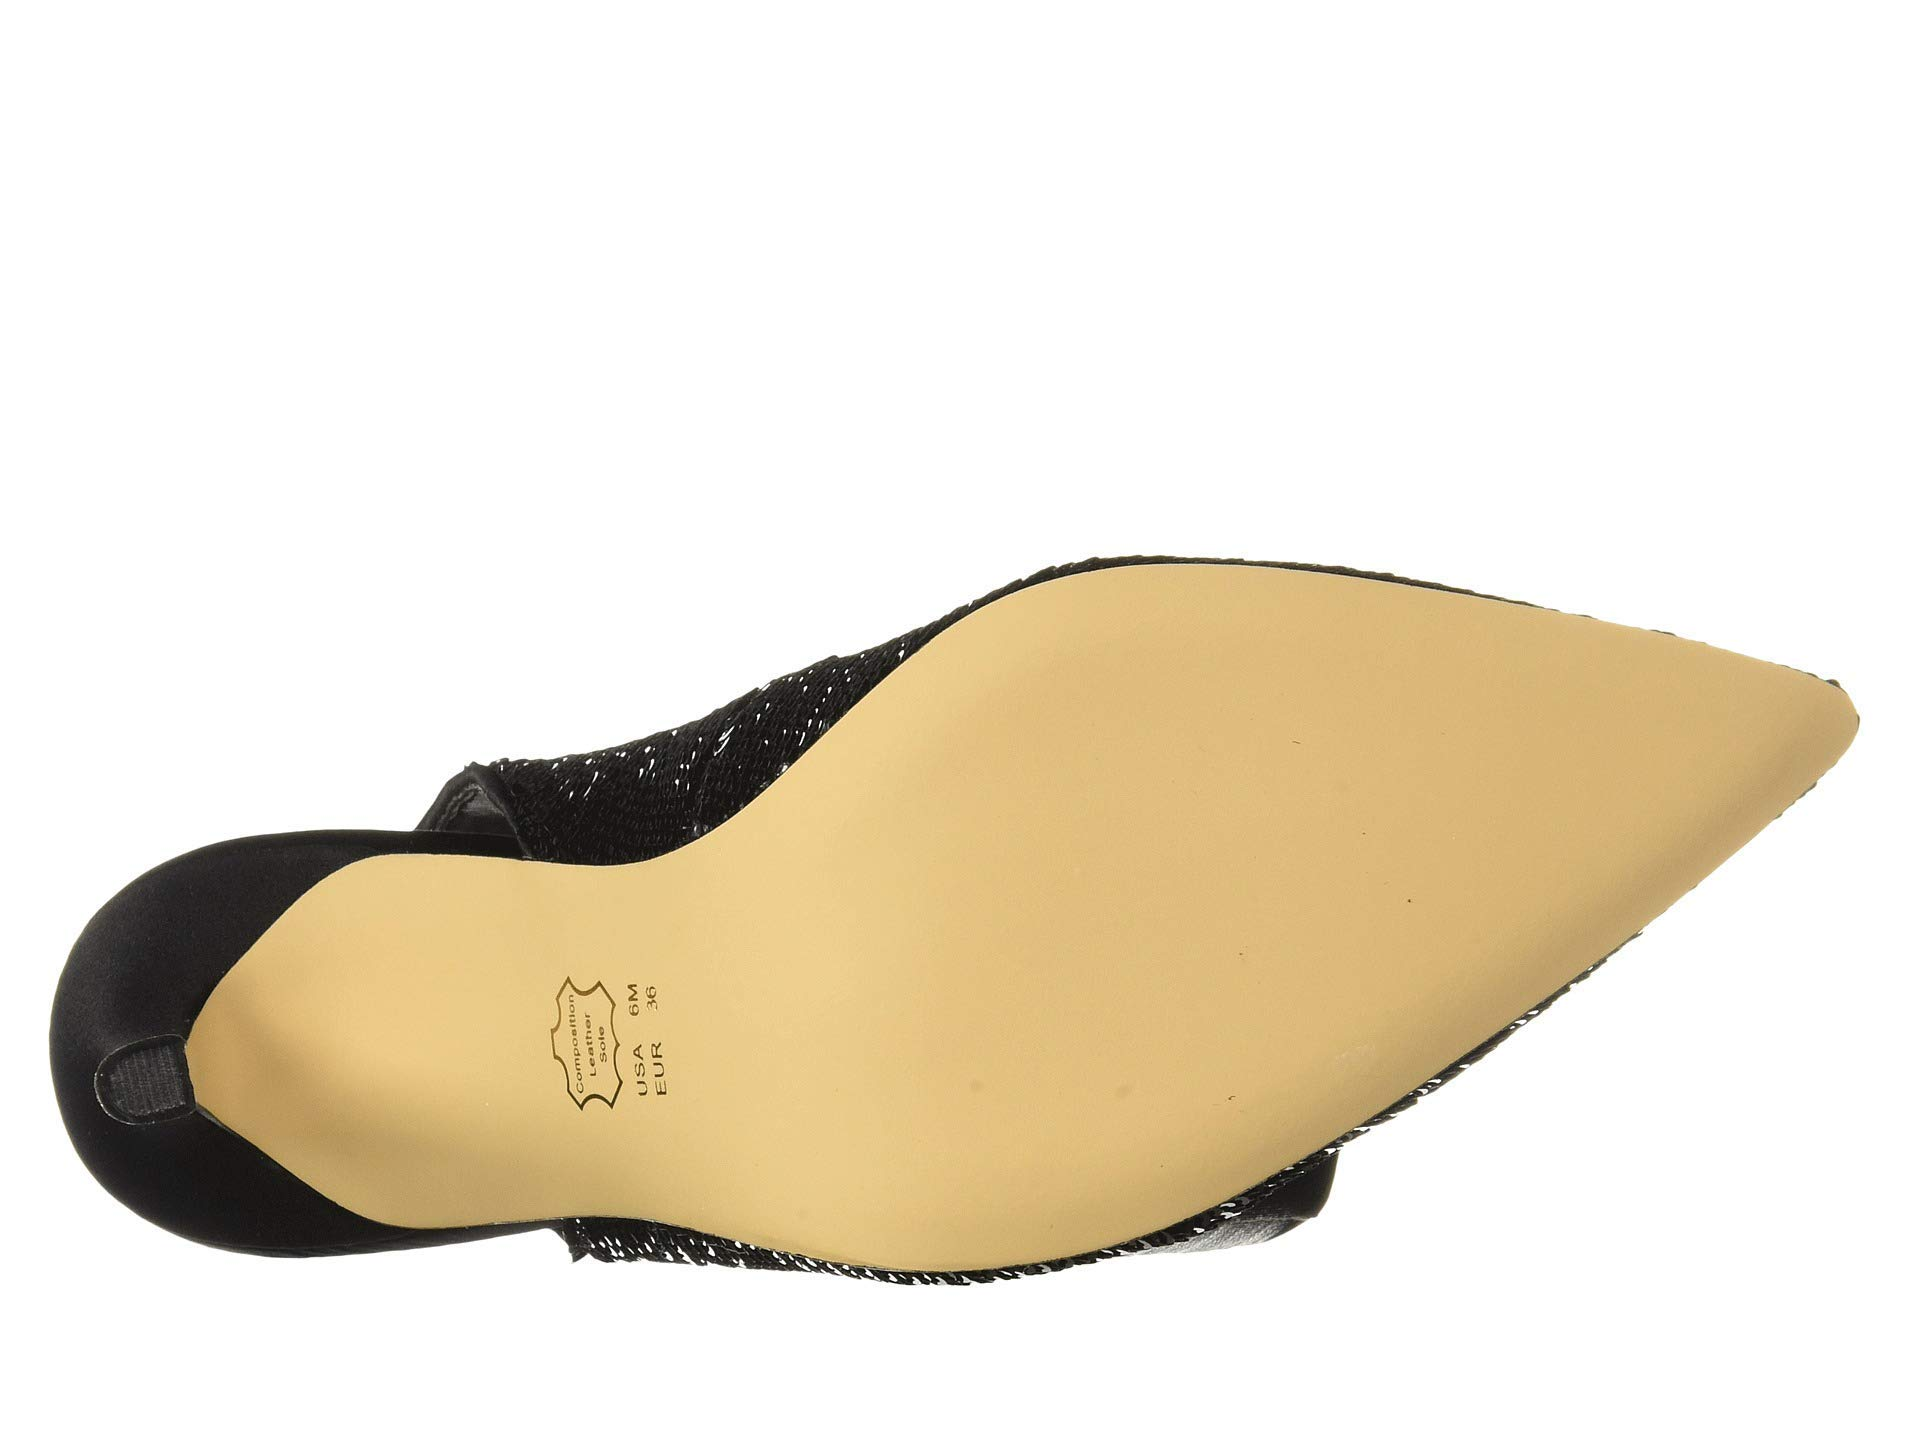exclude: (14, 475, 1125, 1364)
